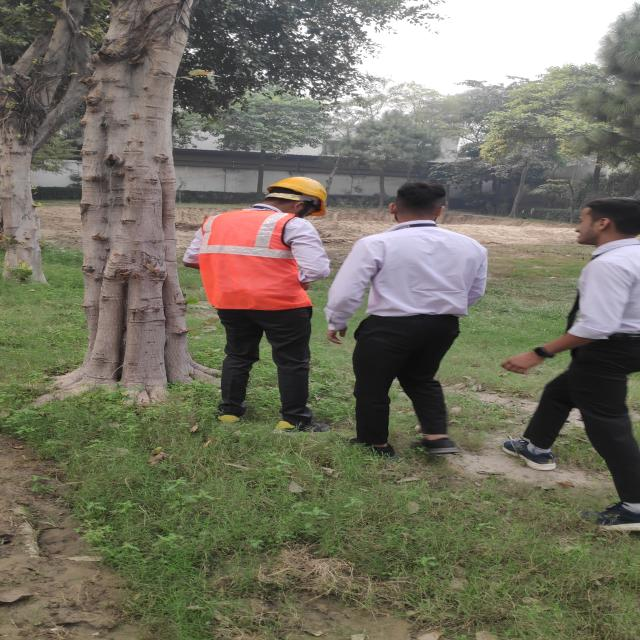safe: (183, 176, 339, 432)
unsafe: (326, 181, 491, 457), (499, 197, 640, 491)
